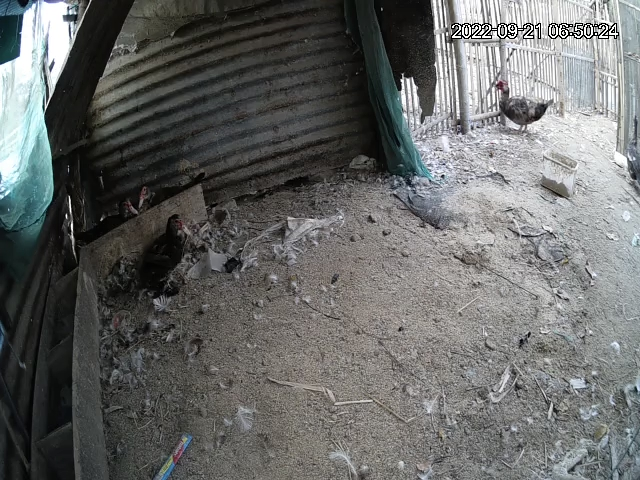Mengeram: (74, 178, 212, 288)
